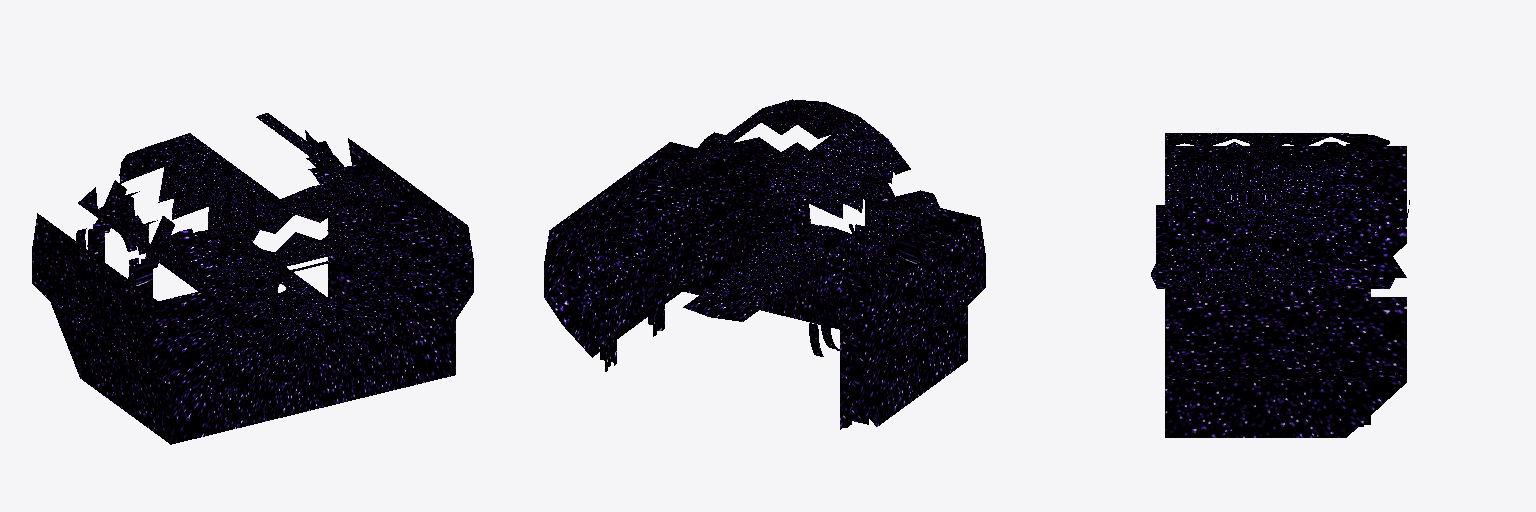
3 views of the same model, side by side, from view 1: azimuth 30°, elevation 25°; view 2: azimuth 150°, elevation 25°; view 3: azimuth 270°, elevation 25° (orthographic).
Parts seen in each view (by area): view 1: polygon1, polygon0; view 2: polygon1, polygon0; view 3: polygon1, polygon0.
Part boxes in pixels (x1,y1,x2,y2): polygon1: (32,113,473,444); polygon0: (193,230,340,326); polygon1: (544,99,985,429); polygon0: (683,224,850,321); polygon1: (1156,133,1409,437); polygon0: (1151,260,1394,288).
Bounding box in the file's own units: 269 × 180 × 188.
Materials: 1 (1 with a texture image).